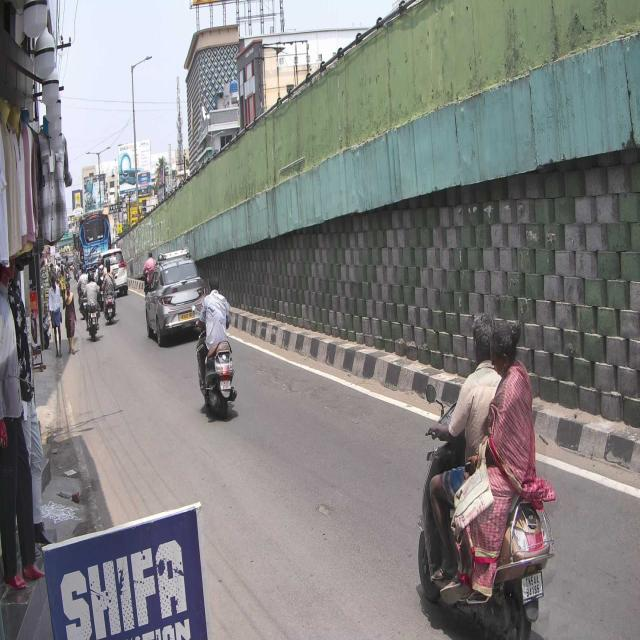double_rider: (416, 307, 555, 640)
single_rider: (192, 275, 239, 419)
